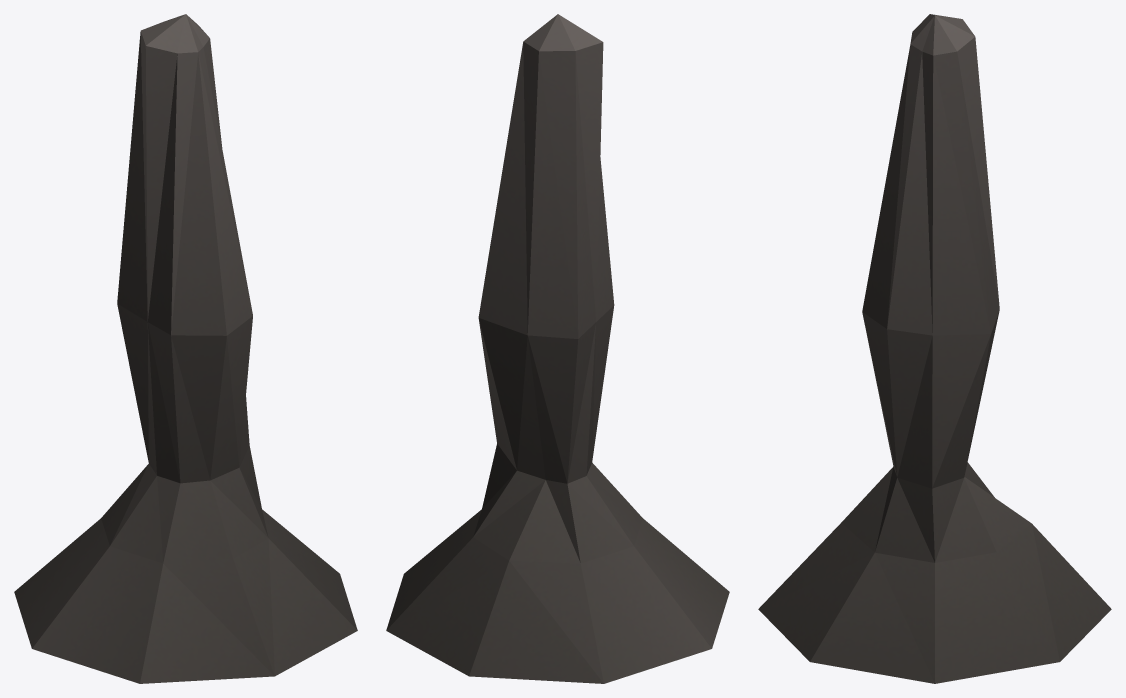
Rendered from Stal_2A.fbx.
3 views of the same model, side by side, from view 1: azimuth 30°, elevation 25°; view 2: azimuth 150°, elevation 25°; view 3: azimuth 270°, elevation 25° (orthographic).
Visible parts, largest first — view 1: pCone4; view 2: pCone4; view 3: pCone4.
Boxes of the visible parts, x1,y1,x2,y2 form: pCone4: (14,14,357,683); pCone4: (386,14,729,683); pCone4: (758,14,1111,683).
Size of the model in its own units: 81 by 150 by 81.
1 material, 1 textured.
